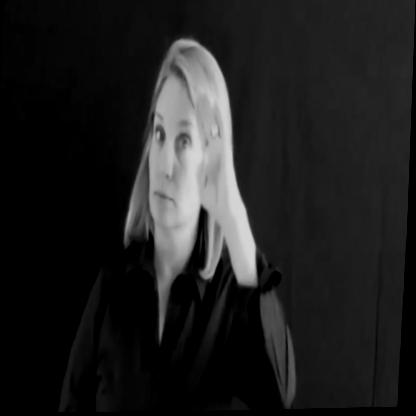Hello: (140, 28, 256, 236)
